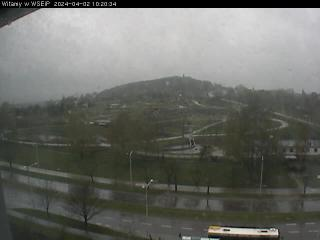bus: (206, 222, 281, 240)
